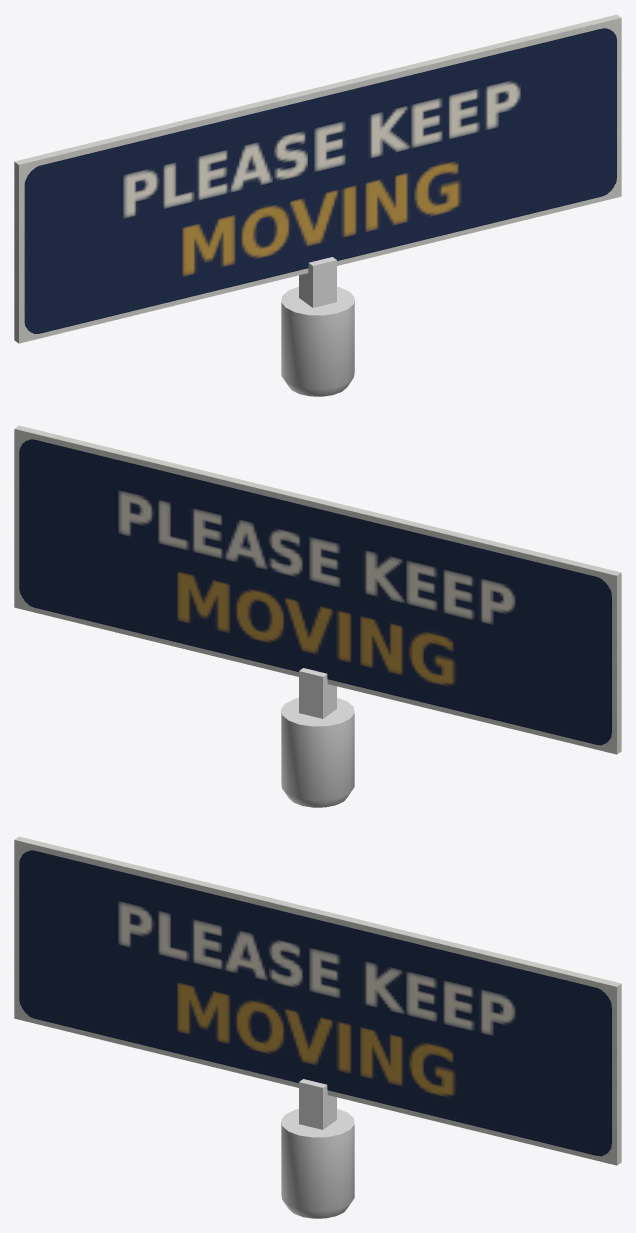
The model's file is SM_QUE_Sign_KeepMoving.fbx.
3 views of the same model, one above another, from view 1: azimuth 30°, elevation 25°; view 2: azimuth 150°, elevation 25°; view 3: azimuth 330°, elevation 25° (orthographic).
Visible parts, largest first — view 1: SM_QUE_Sign_KeepMoving; view 2: SM_QUE_Sign_KeepMoving; view 3: SM_QUE_Sign_KeepMoving.
Part boxes in pixels (x1,y1,x2,y2): SM_QUE_Sign_KeepMoving: [14, 14, 621, 396]; SM_QUE_Sign_KeepMoving: [14, 425, 621, 807]; SM_QUE_Sign_KeepMoving: [14, 836, 621, 1218].
Size of the model in its own units: 0.6 by 0.28 by 0.064.
